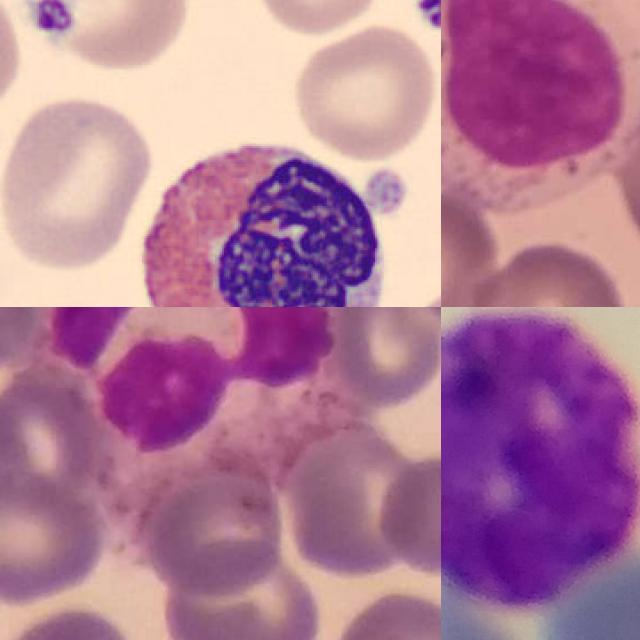Basophil: (441, 307, 640, 612)
Eosinophil: (120, 123, 398, 307)
Lymphocyte: (441, 0, 640, 213)
Neutrophil: (42, 307, 345, 476)
Platelets: (26, 0, 76, 38), (412, 0, 441, 35)
RBC: (0, 89, 158, 274), (286, 21, 441, 164), (28, 0, 193, 74), (252, 0, 385, 36), (0, 0, 28, 119)
